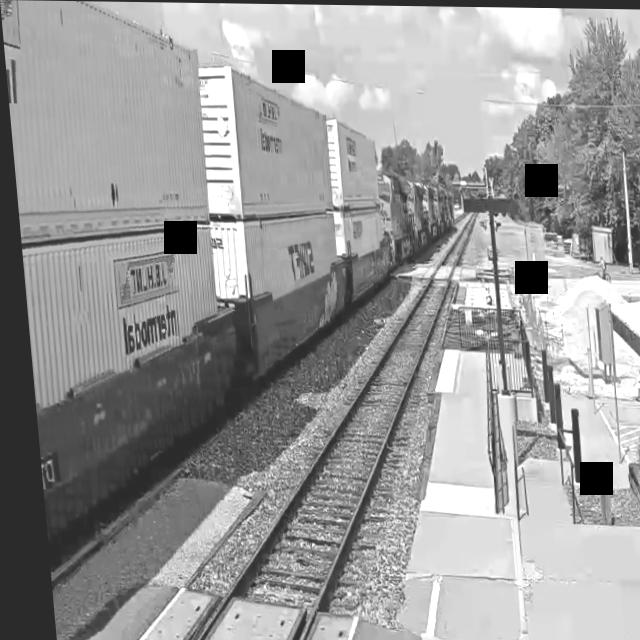container: (0, 0, 214, 262), (15, 216, 227, 446), (195, 61, 333, 219), (204, 216, 341, 301), (324, 115, 381, 211)
flatcar: (21, 300, 252, 599), (230, 253, 351, 392)
